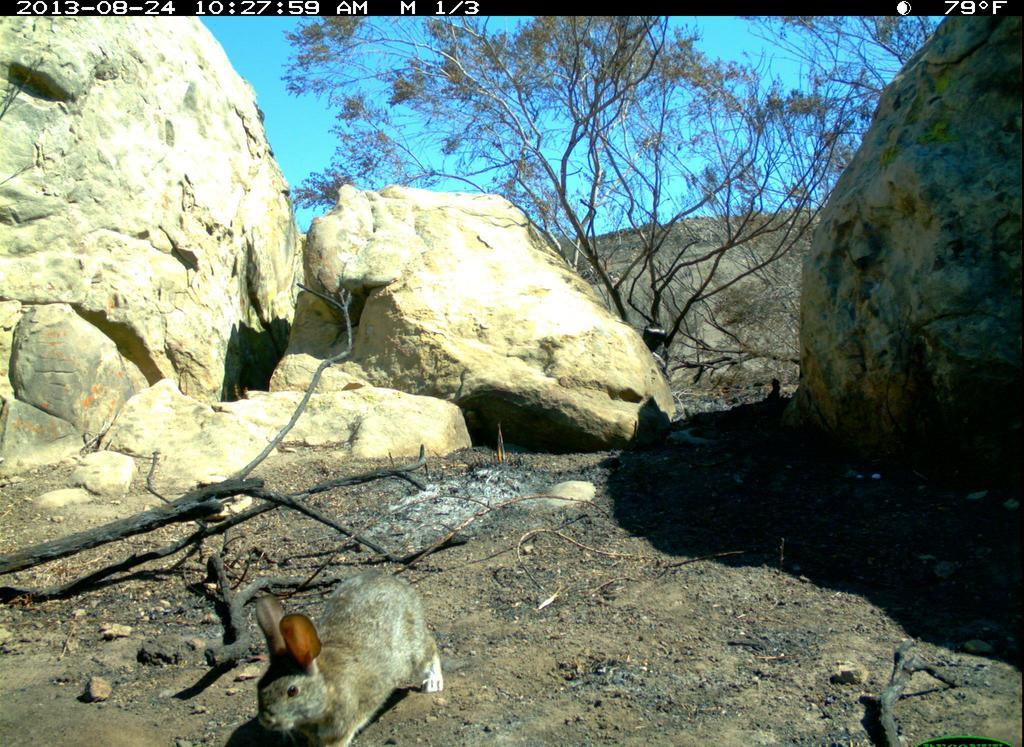rabbit: (240, 566, 458, 747)
